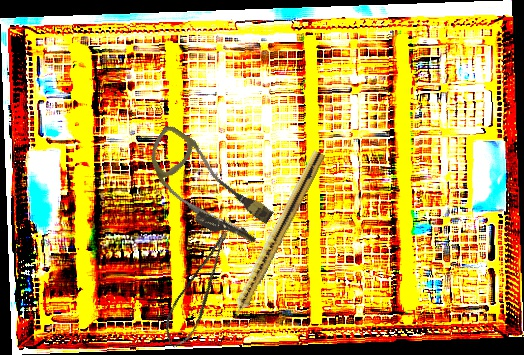Cannula: (130, 122, 284, 255)
Handpiece: (222, 148, 326, 329)
Micro Scissor: (153, 228, 249, 353)
